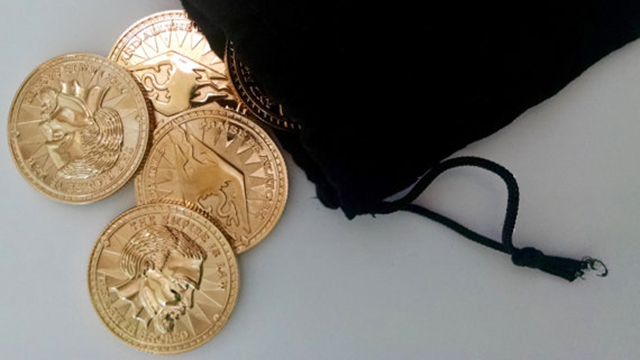coin: (89, 198, 238, 356), (135, 106, 287, 258), (7, 52, 151, 204), (110, 9, 249, 124)
